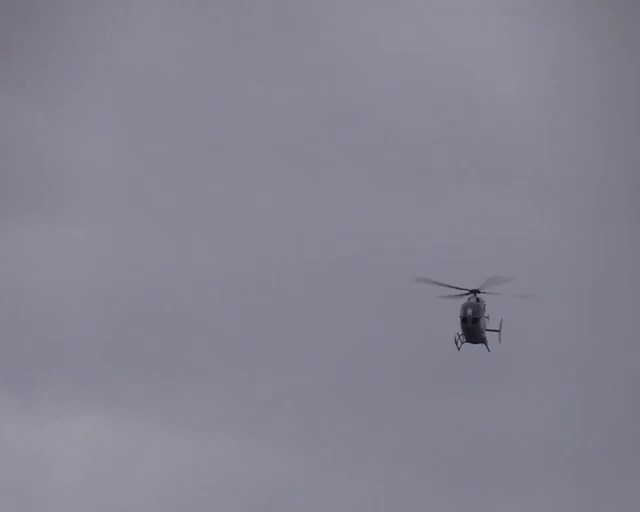HELICOPTER: (413, 273, 538, 353)
